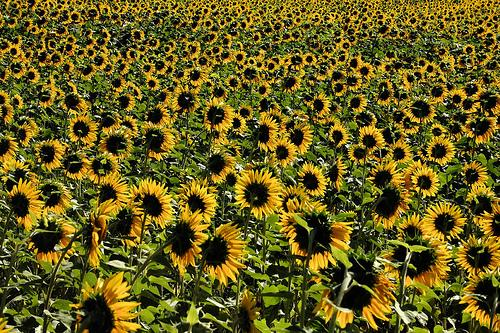sunflower: (384, 214, 449, 286), (315, 268, 394, 327), (74, 272, 142, 333), (288, 215, 350, 268), (205, 223, 245, 284), (234, 170, 282, 219), (28, 217, 75, 267), (177, 175, 225, 222), (462, 277, 500, 333), (131, 179, 175, 227), (168, 214, 206, 268), (7, 179, 44, 230), (458, 235, 498, 276), (423, 203, 465, 240), (373, 183, 406, 225), (139, 124, 176, 158), (99, 125, 132, 161), (364, 160, 402, 191), (282, 120, 314, 153), (296, 163, 328, 195), (42, 181, 72, 214), (252, 114, 278, 151), (205, 147, 234, 180), (404, 94, 435, 124), (202, 101, 234, 130), (465, 113, 496, 142), (68, 117, 97, 146), (426, 134, 455, 163), (89, 155, 118, 184), (411, 165, 440, 194), (36, 139, 64, 169), (64, 147, 88, 178), (172, 84, 198, 112), (358, 126, 387, 151), (388, 139, 412, 166), (462, 160, 486, 187), (0, 131, 19, 165), (326, 158, 347, 188), (270, 142, 295, 165), (479, 87, 500, 114), (144, 105, 170, 126), (328, 119, 349, 144), (63, 93, 88, 113), (350, 108, 376, 127), (310, 93, 330, 117), (242, 65, 262, 87), (207, 84, 230, 103), (115, 92, 136, 111), (38, 85, 56, 106), (462, 80, 481, 99), (428, 83, 447, 101), (448, 89, 466, 106), (348, 94, 367, 110), (226, 73, 243, 90)
